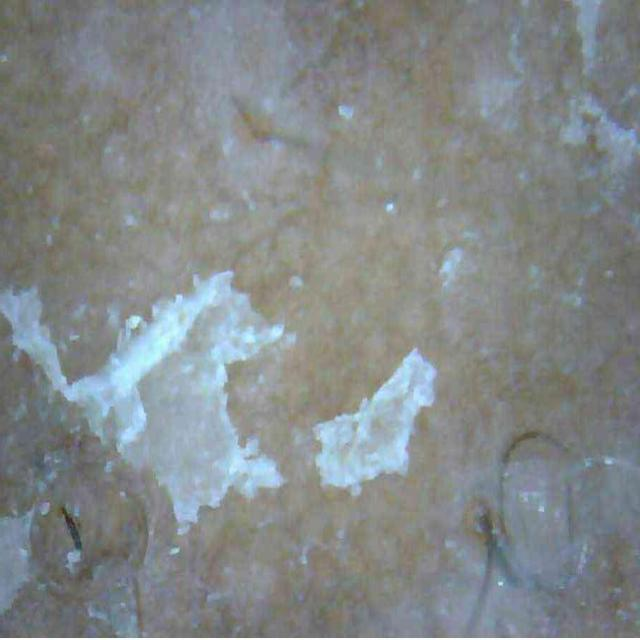d: (8, 272, 282, 525), (315, 350, 436, 496), (574, 92, 640, 173), (0, 512, 31, 614), (574, 0, 601, 73), (338, 104, 354, 120)
